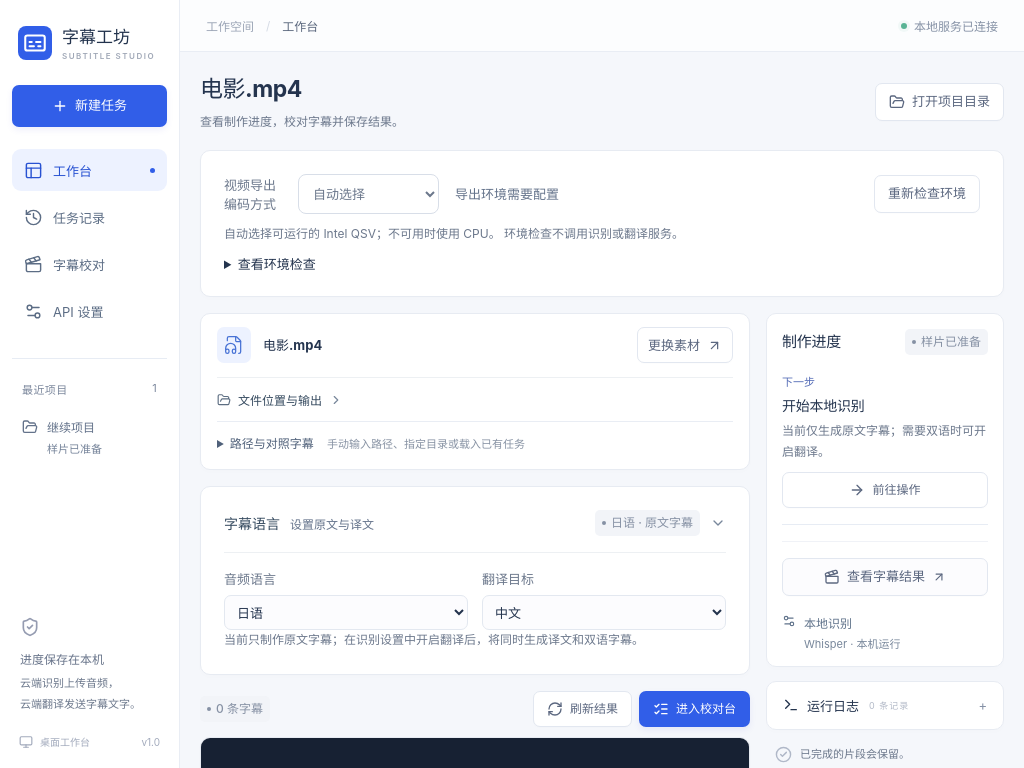
Test: 桌面工作台的真实操作边界 › announces task loading success in visible action feedback and allows dismissing it
Click the button with aria-label "载入任务 继续项目".
click(90, 437)  # box [12,407,167,467]
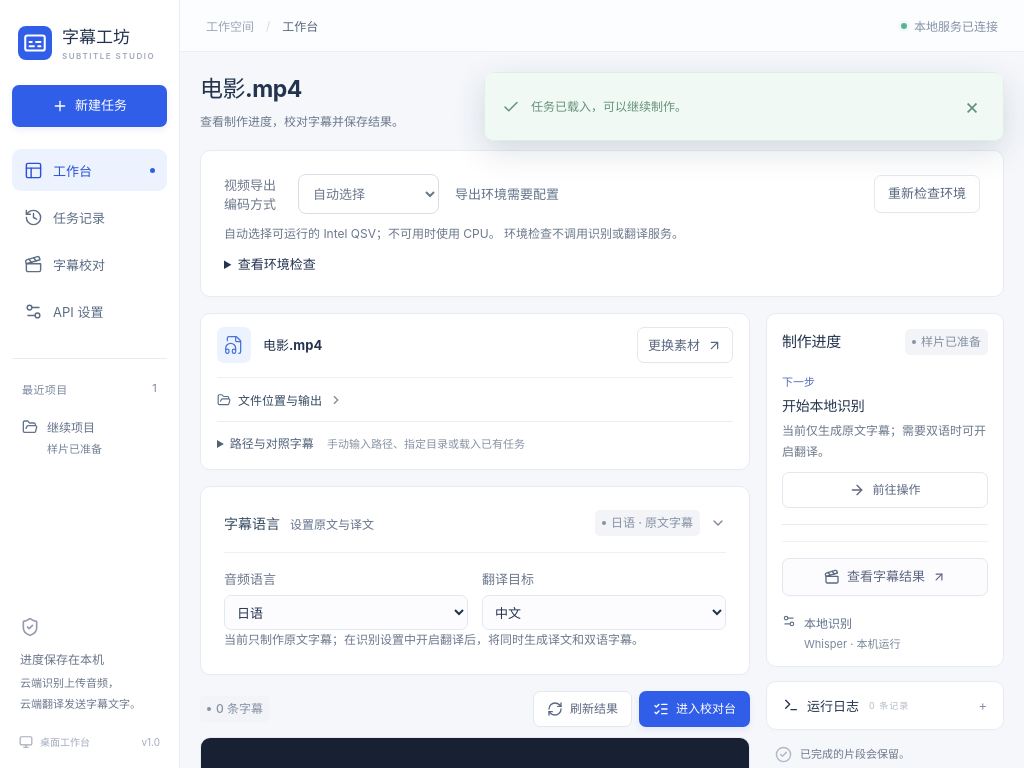
Now the element named "操作反馈" shows "任务已载入，可以继续制作。", box [531,98,687,114]
Now the message "任务已载入，可以继续制作。 ×" is shown, box [484,72,1004,141]
Click the button named "关闭成功提示".
click(972, 107)  # box [958,87,986,126]
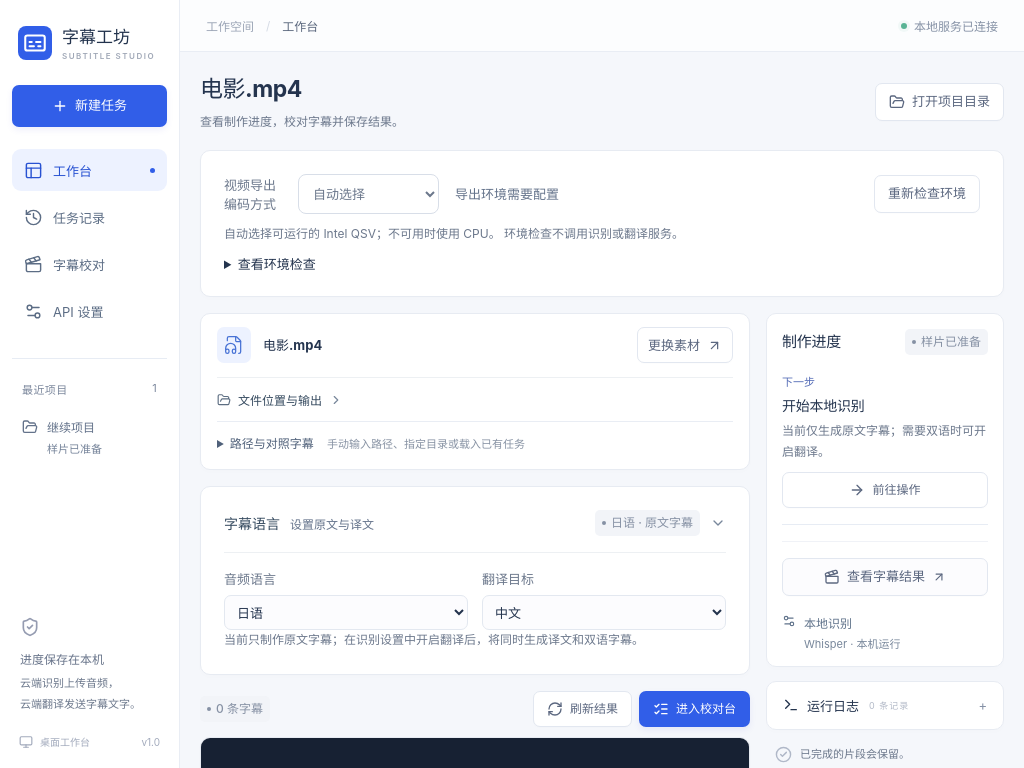
Now the element "操作反馈" is gone
